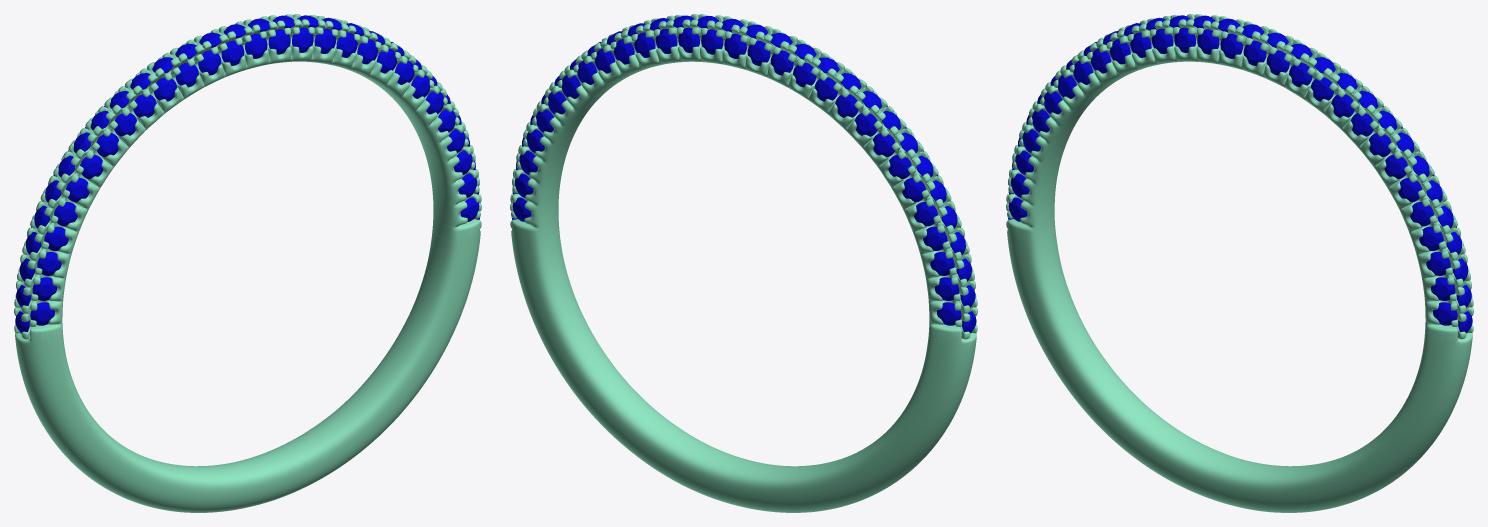
3 renders of one model, left to right at view 1: azimuth 30°, elevation 25°; view 2: azimuth 150°, elevation 25°; view 3: azimuth 330°, elevation 25°, orthographic.
Parts seen in each view (by area): view 1: Metal03; view 2: Metal03; view 3: Metal03.
Boxes of the visible parts, x1,y1,x2,y2 form: Metal03: (14,14,481,512); Metal03: (510,14,977,512); Metal03: (1006,14,1473,512).
Size of the model in its own units: 20.89 by 20.9 by 1.85.
